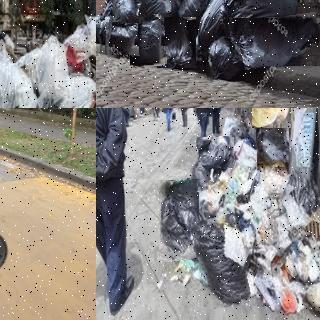Garbage: (195, 215, 248, 308), (230, 15, 320, 68), (157, 179, 202, 261), (157, 17, 196, 68), (129, 14, 166, 67), (201, 37, 244, 80), (257, 125, 289, 167), (196, 136, 235, 169), (106, 23, 138, 55), (189, 155, 214, 193), (139, 0, 180, 20), (252, 108, 291, 128), (110, 0, 136, 23), (180, 0, 219, 13)
